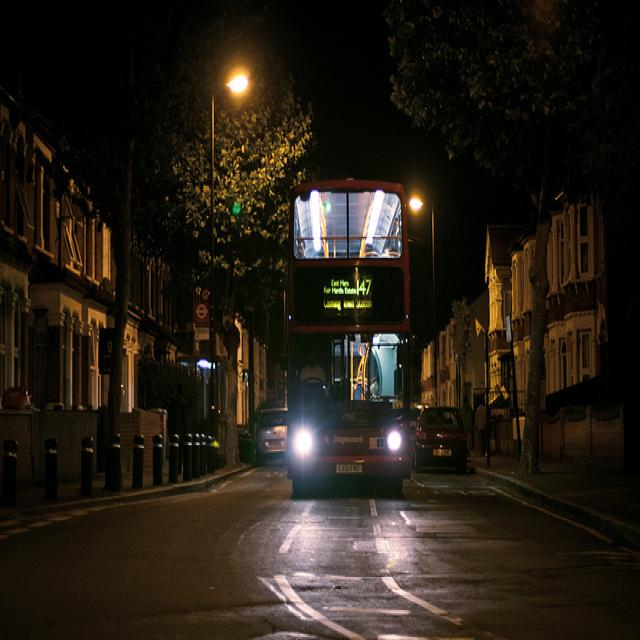Bus: (286, 166, 425, 495)
People: (469, 382, 495, 482), (165, 368, 185, 488), (454, 374, 480, 458)
car: (418, 393, 474, 483), (246, 378, 290, 473)
